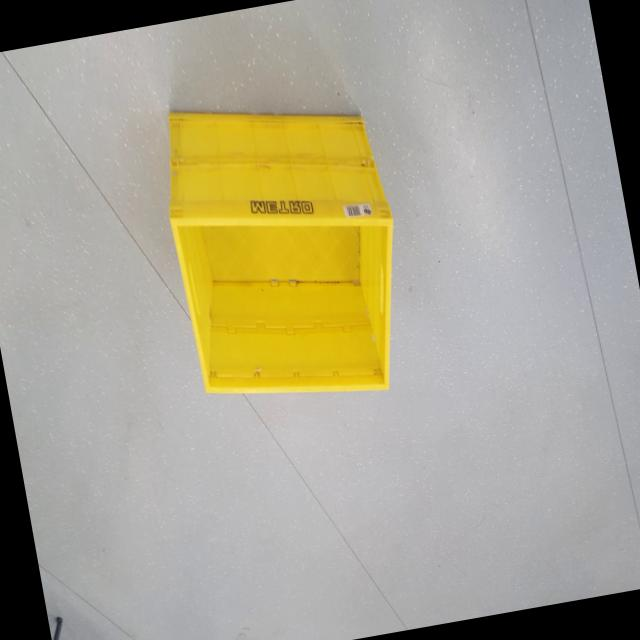box: (129, 72, 423, 433)
